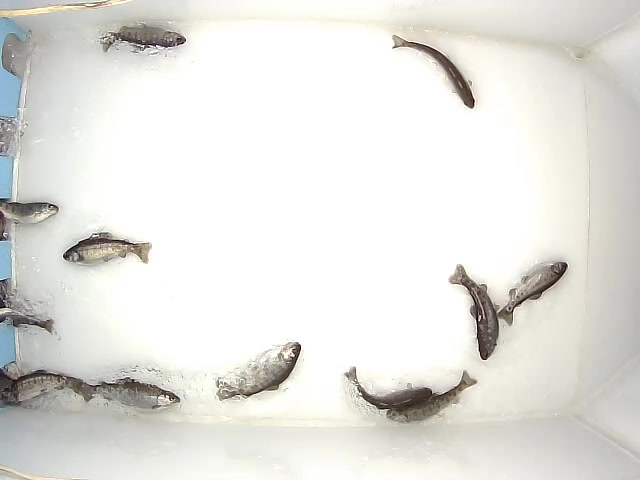fish: (390, 31, 478, 108), (212, 338, 304, 403), (447, 263, 502, 360), (382, 368, 478, 421), (497, 258, 568, 328), (343, 364, 433, 408), (84, 374, 184, 413), (61, 230, 154, 268), (8, 370, 96, 407), (96, 23, 188, 53)
